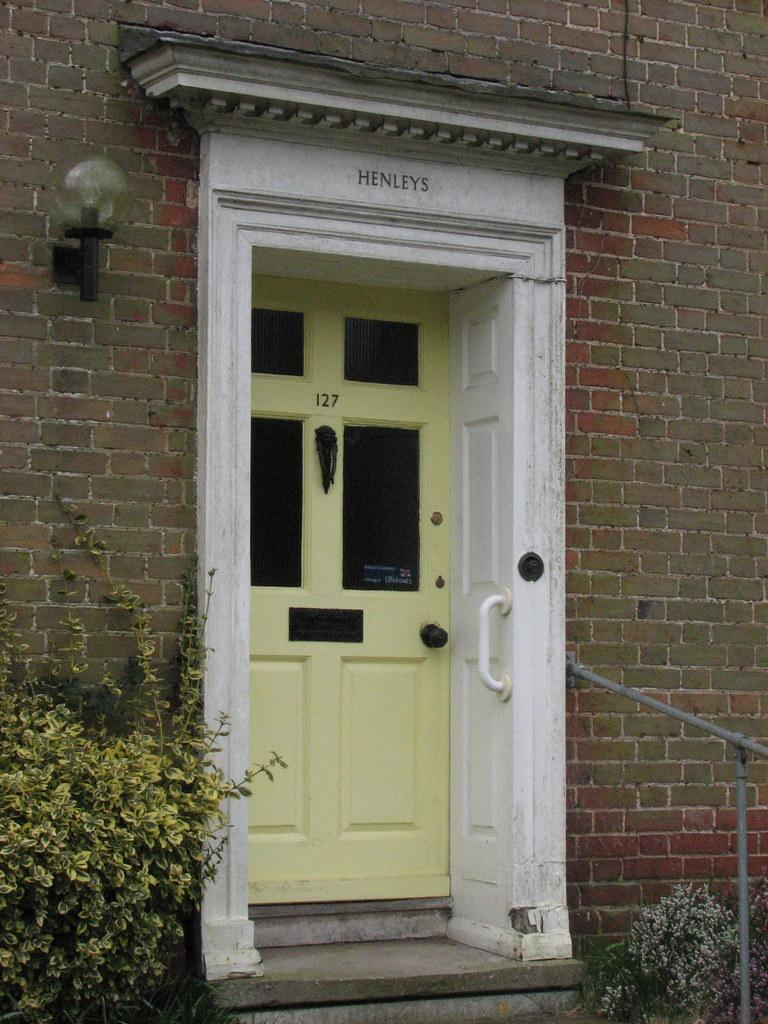door: (247, 272, 453, 906)
